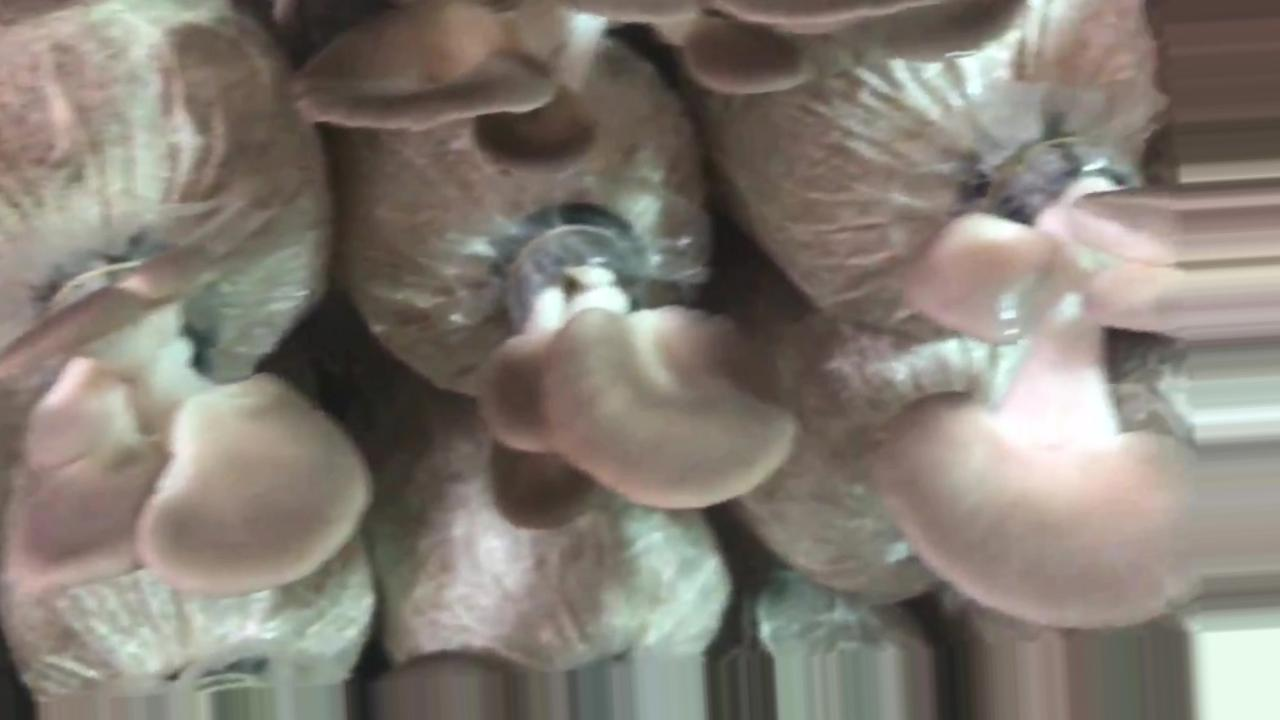nam: (875, 130, 1206, 634), (1, 242, 377, 605), (291, 5, 1034, 180), (492, 202, 806, 537)
